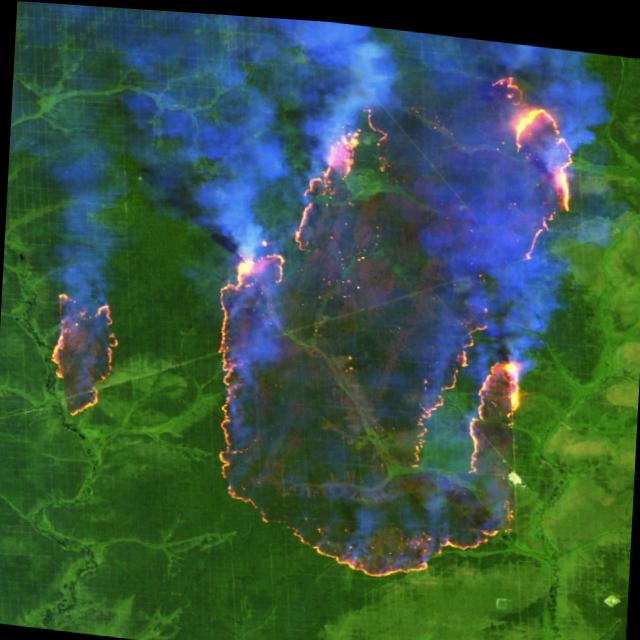fire: (190, 29, 607, 599), (37, 285, 132, 432)
